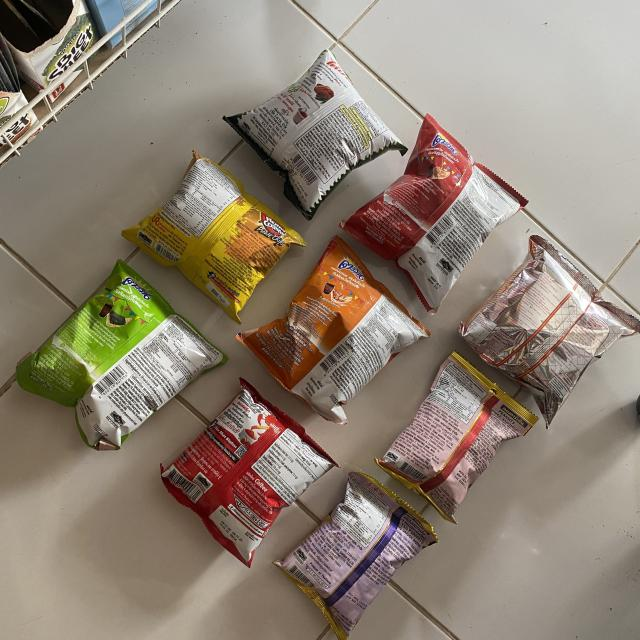plastik: (16, 260, 228, 450), (340, 115, 528, 314), (236, 236, 430, 424), (460, 235, 640, 428), (161, 378, 336, 568), (121, 151, 306, 324), (224, 50, 394, 219), (376, 352, 538, 522), (275, 472, 438, 640)
